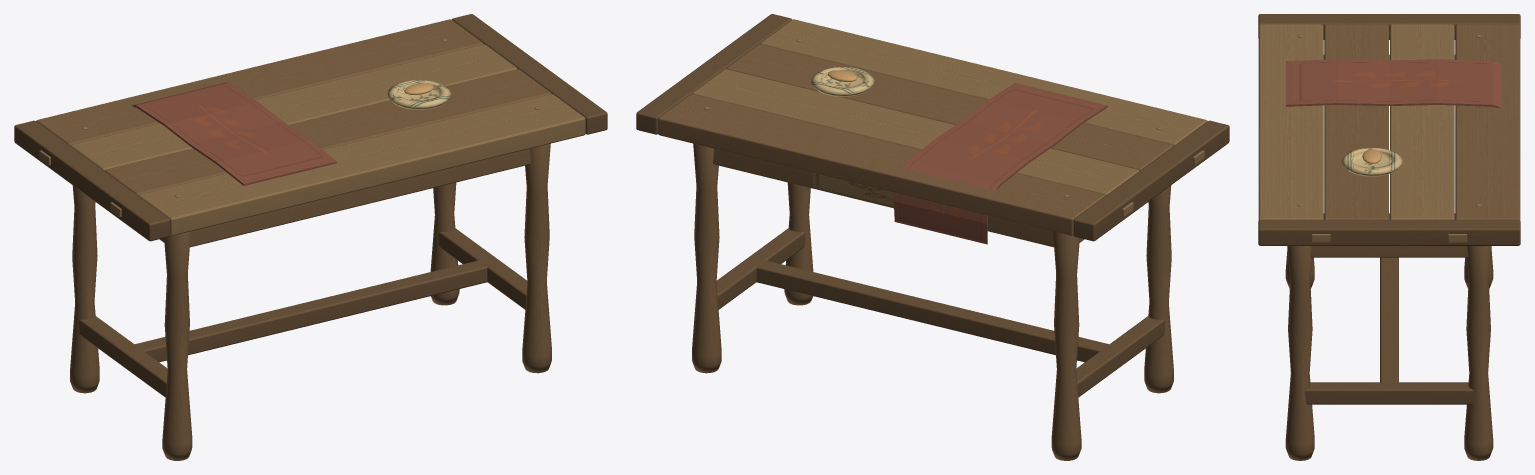
File: mesa.glb
The picture shows the model from 3 angles, left to right: view 1: azimuth 30°, elevation 25°; view 2: azimuth 150°, elevation 25°; view 3: azimuth 270°, elevation 25°; orthographic projection. The views are drawn at different scales.
Visible parts, largest first — view 1: mesa; view 2: mesa; view 3: mesa.
Boxes of the visible parts, x1=… form: mesa: x1=14, y1=14, x2=607, y2=460; mesa: x1=636, y1=14, x2=1229, y2=460; mesa: x1=1258, y1=14, x2=1520, y2=460.
Size of the model in its own units: 1.49 by 0.846 by 0.76.
1 material, 1 textured.
